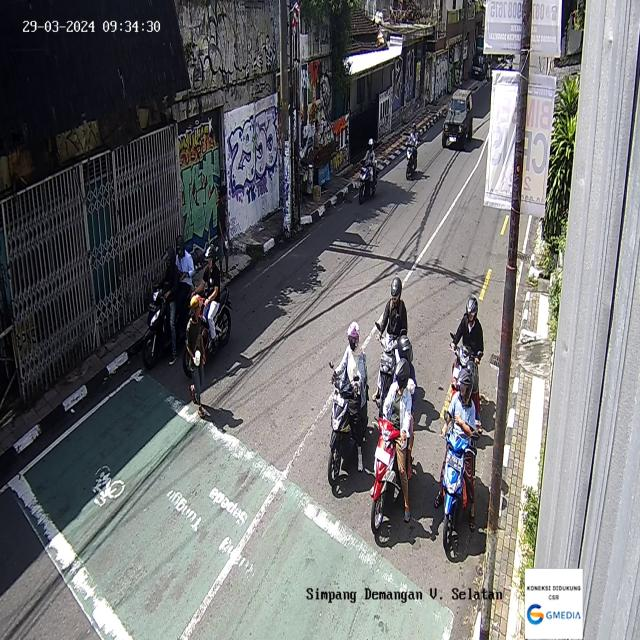car: (442, 88, 473, 150)
motorcycle: (369, 337, 415, 532), (440, 370, 481, 552), (141, 238, 196, 371), (182, 246, 232, 378), (327, 322, 367, 486), (374, 274, 408, 420), (448, 298, 483, 429), (358, 137, 378, 204), (405, 123, 419, 180)
